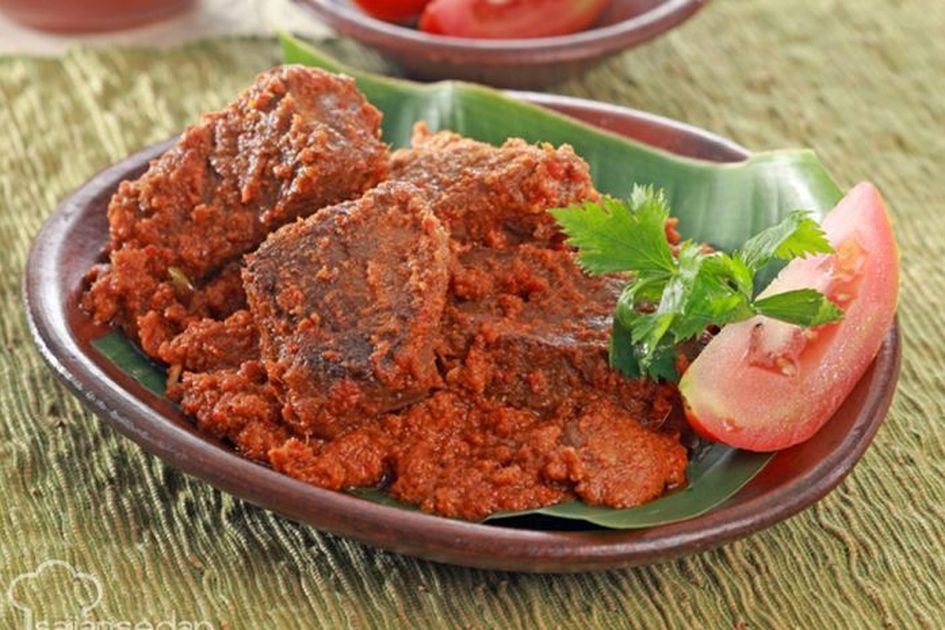rendang: (81, 61, 712, 542)
